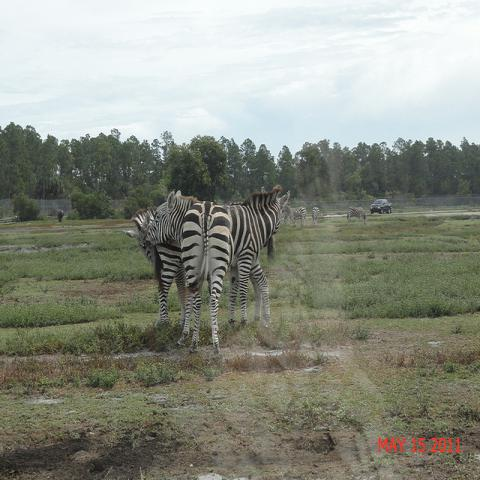truck: (370, 199, 392, 215)
